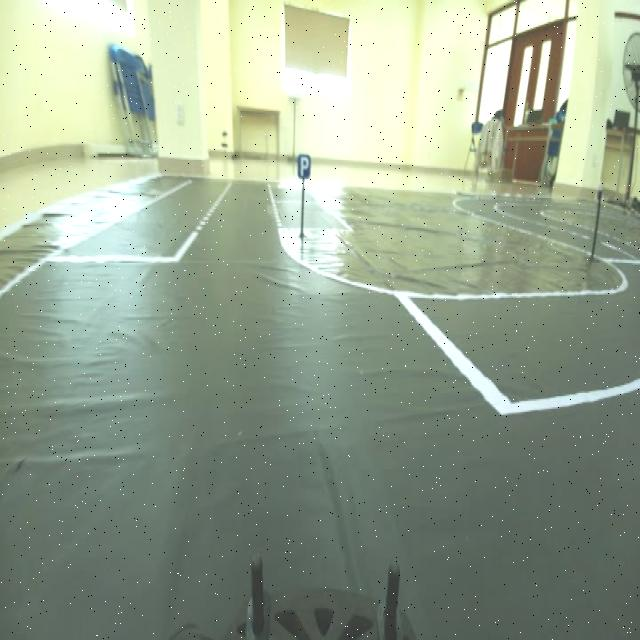parking: (289, 140, 315, 185)
